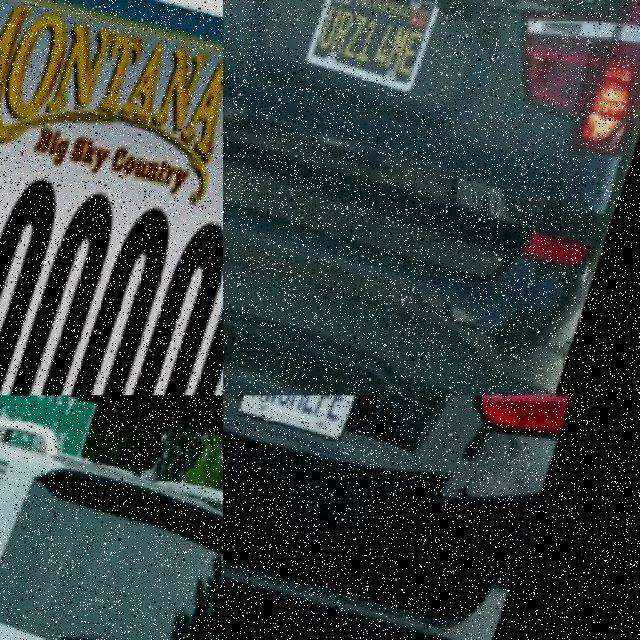licenseplate: (0, 104, 223, 396), (311, 0, 449, 89), (242, 396, 380, 462)
